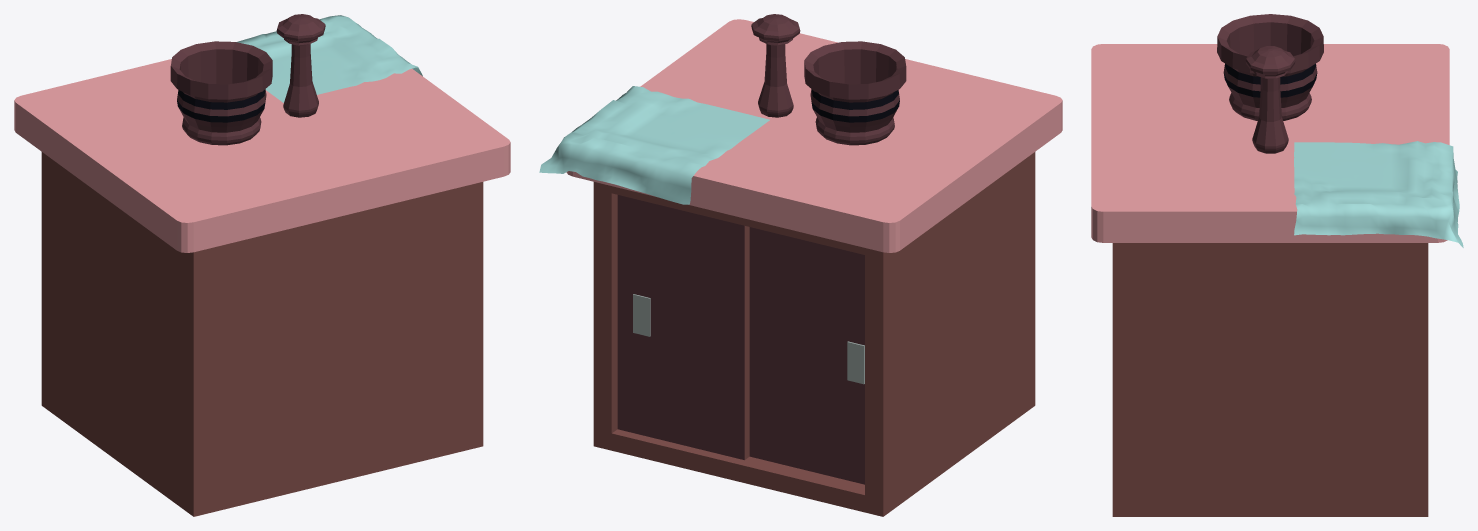
File: BancadaPilao.fbx
The picture shows the model from 3 angles, left to right: view 1: azimuth 30°, elevation 25°; view 2: azimuth 150°, elevation 25°; view 3: azimuth 270°, elevation 25°; orthographic projection. The views are drawn at different scales.
Parts seen in each view (by area): view 1: Cube.024, Circle.006, Circle.007; view 2: Cube.024, Circle.006, Circle.007; view 3: Cube.024, Circle.006, Circle.007.
Part boxes in pixels (x1,y1,x2,y2): Cube.024: (14, 15, 510, 516); Circle.006: (170, 41, 272, 145); Circle.007: (276, 14, 325, 117); Cube.024: (539, 19, 1062, 516); Circle.006: (804, 41, 906, 145); Circle.007: (751, 14, 800, 117); Cube.024: (1091, 44, 1463, 516); Circle.006: (1217, 14, 1323, 120); Circle.007: (1245, 46, 1295, 153).
Size of the model in its own units: 192 by 210 by 171.
